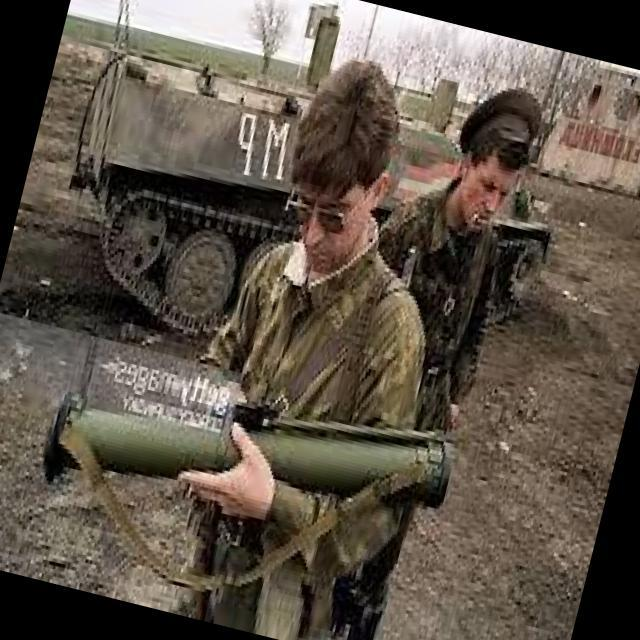rocket: (38, 336, 460, 572)
